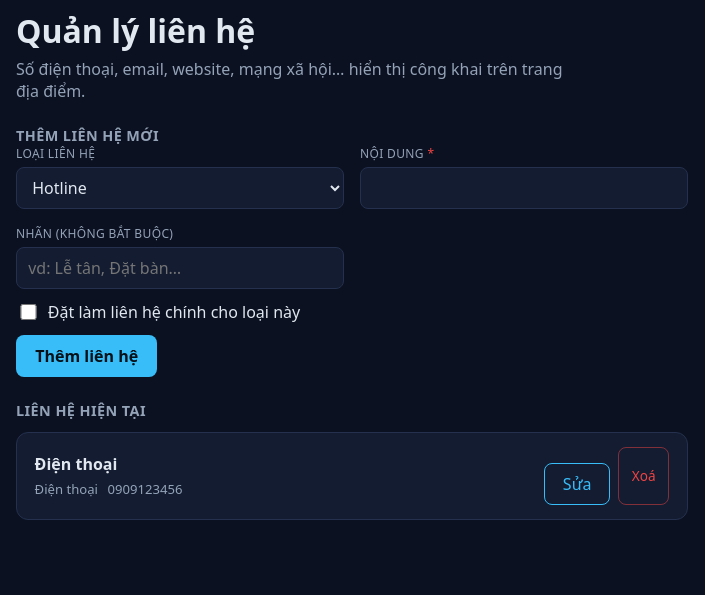
ContactsView — xoá liên hệ › backend từ chối -> thông báo lỗi, KHÔNG âm thầm coi là đã xoá
Expected: the text "0909123456" is shown, [108,480,182,498]
Click the button "Xoá" at (644, 476), box [618,447,669,505]
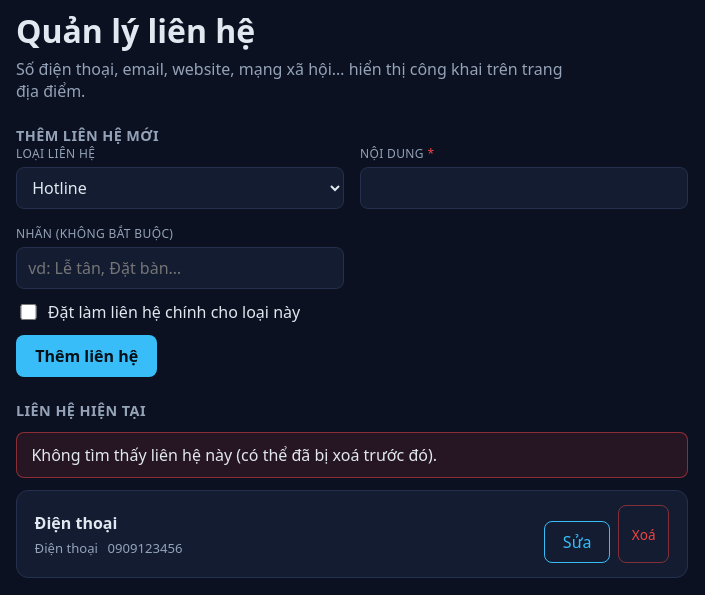
Expected: the text "0909123456" is shown, [108,538,182,556]
Expected: the message reads "Không tìm thấy liên hệ này (có thể đã bị xoá trước đó).", [31,444,437,466]
